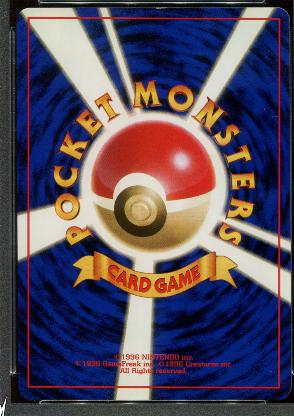Card: (12, 5, 292, 402)
